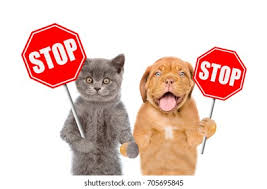stop sign: (21, 22, 88, 88), (194, 47, 247, 100)
